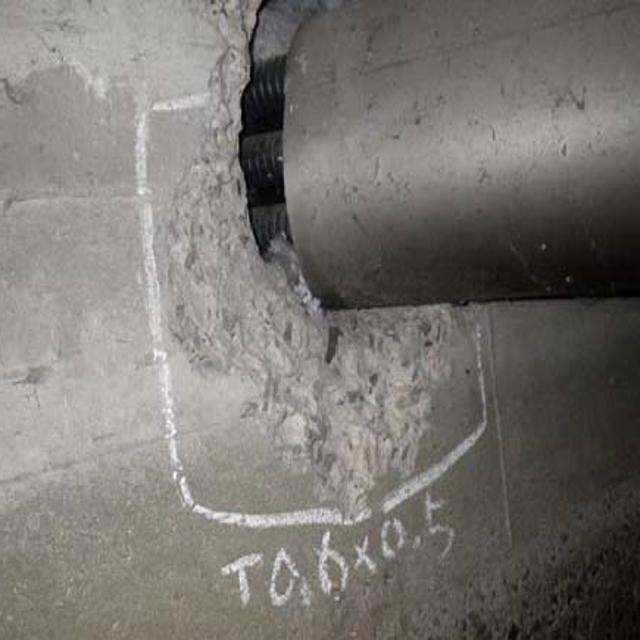spalling: (177, 86, 449, 527)
